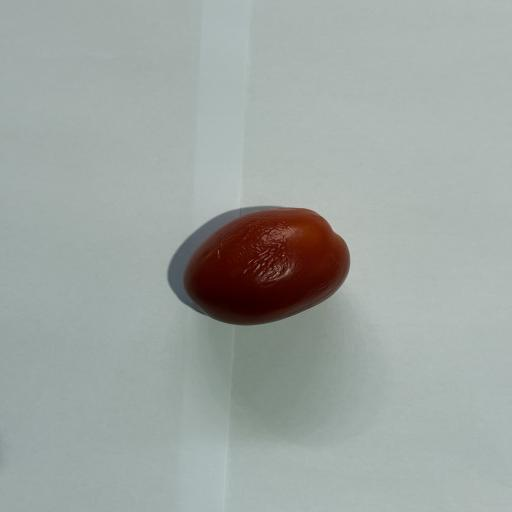ripe: (184, 208, 350, 325)
spoiled: (184, 208, 350, 325)
